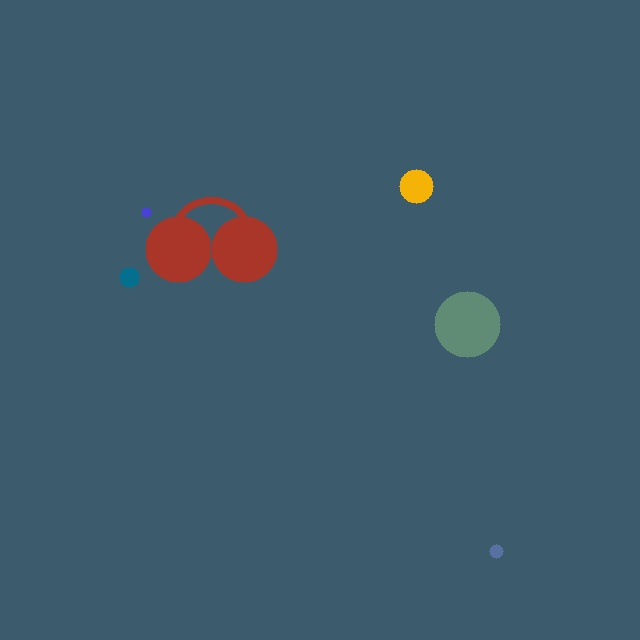over_ear: (141, 192, 281, 286)
